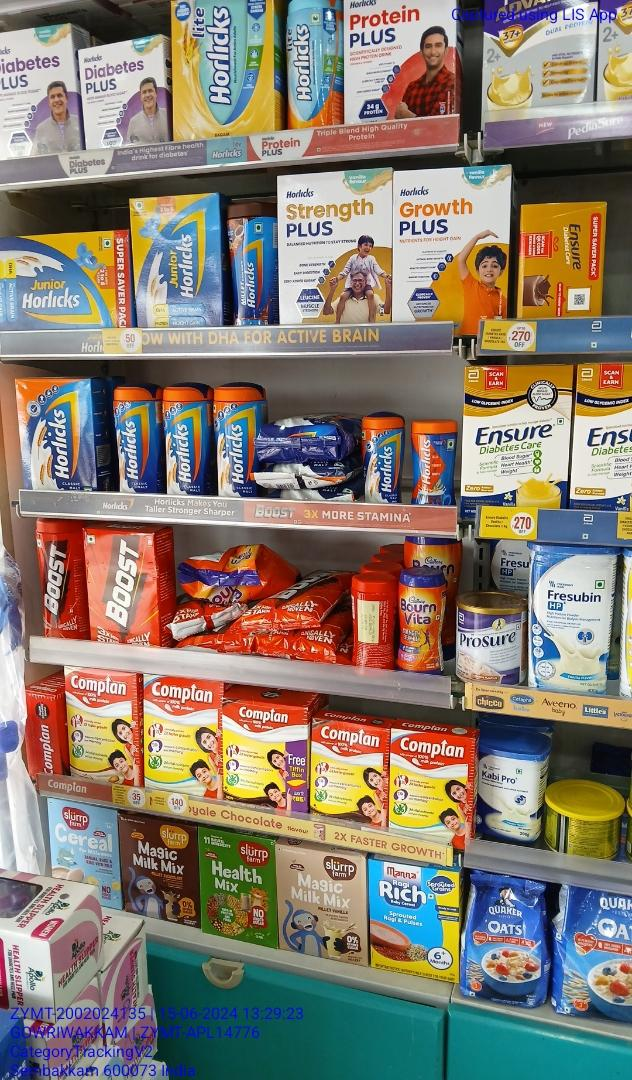BOURN_VITA_200_G_JAR: (398, 567, 444, 671)
COMPLAN_CHOCOLATE_500_GMS_PACK: (225, 699, 309, 810), (312, 718, 387, 825)
COMPLAN_CREAMY_CLASSIC_500_G_PACK: (144, 676, 222, 795), (392, 728, 473, 838)
COMPLAN_KESAR_BADAM_500_GMS_PACK: (65, 666, 140, 784)
HORLICKS_LITE_REGULAR_MALT_500_GM_JAR: (282, 0, 341, 126)
HORLICK_CLASSIC_MALT_200_G_JAR: (410, 420, 456, 505), (363, 416, 403, 503)
HORLICK_CLASSIC_MALT_500_G_JAR: (163, 386, 213, 495), (114, 387, 160, 493), (216, 385, 258, 497)
HORLICK_CLASSIC_MALT_500_G_PACK: (18, 379, 97, 489)
